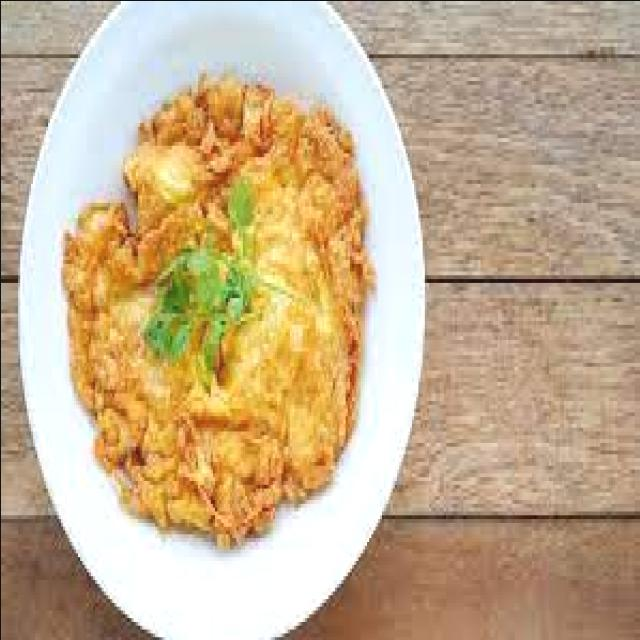telur dadar: (58, 76, 375, 556)
